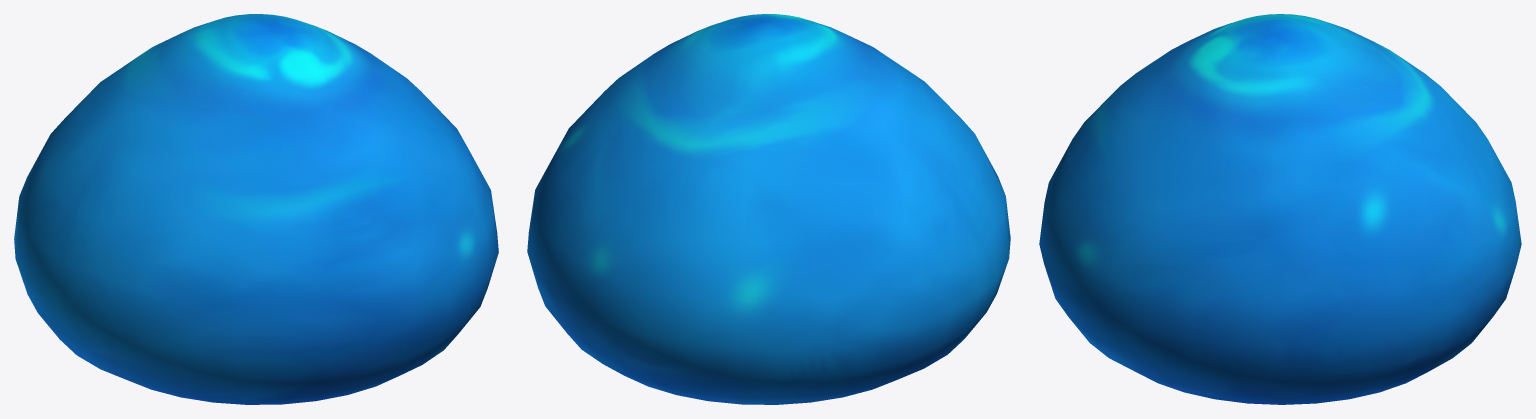
The model's file is slimeBody.gltf.
The picture shows the model from 3 angles, left to right: view 1: azimuth 30°, elevation 25°; view 2: azimuth 150°, elevation 25°; view 3: azimuth 270°, elevation 25°; orthographic projection.
Visible parts, largest first — view 1: Slime_Slime_0.001, Slime_Slime_0; view 2: Slime_Slime_0.001, Slime_Slime_0; view 3: Slime_Slime_0.001, Slime_Slime_0.
Part boxes in pixels (x1,y1,x2,y2): Slime_Slime_0.001: [14, 85, 498, 404]; Slime_Slime_0: [82, 14, 429, 188]; Slime_Slime_0.001: [527, 85, 1010, 404]; Slime_Slime_0: [596, 14, 942, 187]; Slime_Slime_0.001: [1039, 87, 1521, 404]; Slime_Slime_0: [1107, 14, 1453, 186].
Bounding box in the file's own units: 1.03 × 0.7421 × 1.03.
Materials: 1 (1 with a texture image).
